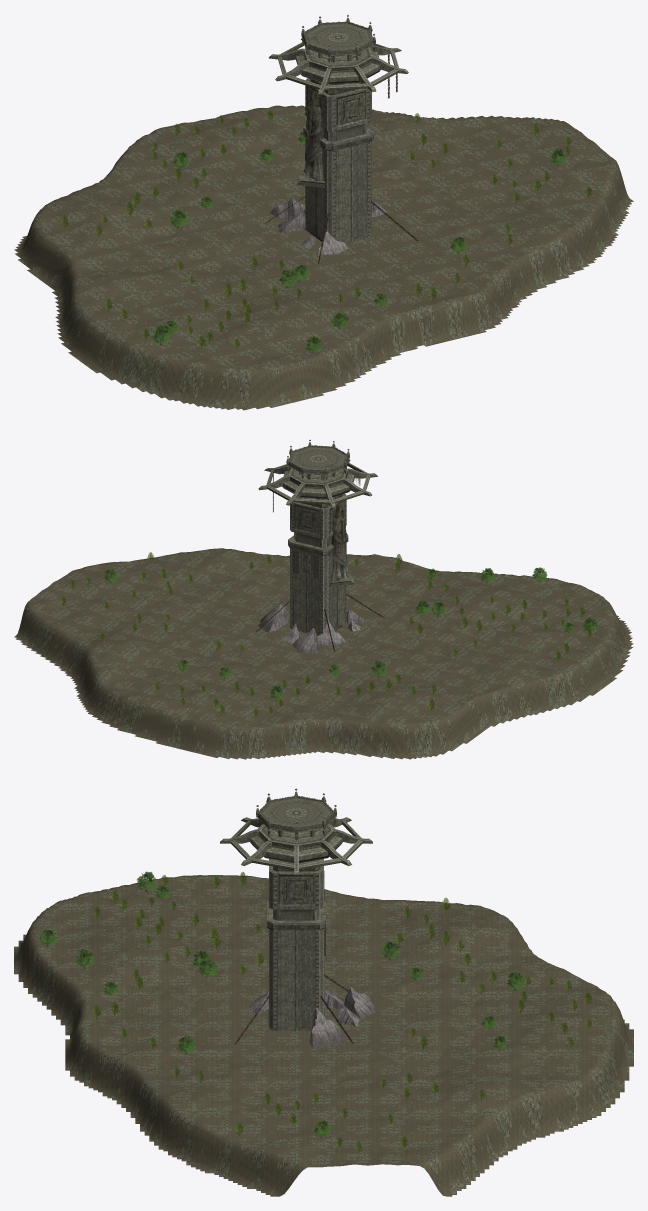
File: curuma.glb
The picture shows the model from 3 angles, top to bottom: view 1: azimuth 30°, elevation 25°; view 2: azimuth 150°, elevation 25°; view 3: azimuth 270°, elevation 25°; orthographic projection. The views are drawn at different scales.
Parts seen in each view (by area): view 1: Terreno, StaticMeshActor1373, StaticMeshActor161, StaticMeshActor159, StaticMeshActor1422; view 2: Terreno, StaticMeshActor1373, StaticMeshActor161, StaticMeshActor159, StaticMeshActor22, StaticMeshActor989, StaticMeshActor1422, StaticMeshActor996; view 3: Terreno, StaticMeshActor1373, StaticMeshActor159, StaticMeshActor22, StaticMeshActor1422, StaticMeshActor996.
Part boxes in pixels (box(x1,y1,x2,y2)): Terreno: box(14, 105, 633, 410); StaticMeshActor1373: box(265, 32, 418, 263); StaticMeshActor161: box(297, 91, 325, 187); StaticMeshActor159: box(305, 23, 371, 50); StaticMeshActor1422: box(301, 17, 375, 62); Terreno: box(14, 548, 633, 759); StaticMeshActor1373: box(256, 456, 383, 651); StaticMeshActor161: box(330, 504, 354, 586); StaticMeshActor159: box(290, 446, 346, 469); StaticMeshActor22: box(258, 601, 288, 632); StaticMeshActor989: box(292, 549, 320, 578); StaticMeshActor1422: box(286, 442, 349, 480); StaticMeshActor996: box(292, 628, 319, 654); Terreno: box(14, 875, 633, 1196); StaticMeshActor1373: box(220, 814, 372, 1044); StaticMeshActor159: box(260, 797, 332, 826); StaticMeshActor22: box(309, 1008, 346, 1048); StaticMeshActor1422: box(256, 791, 336, 840); StaticMeshActor996: box(344, 987, 376, 1018).
Bounding box in the file's own units: 608 × 241 × 532.
Materials: 74 (74 with a texture image).
